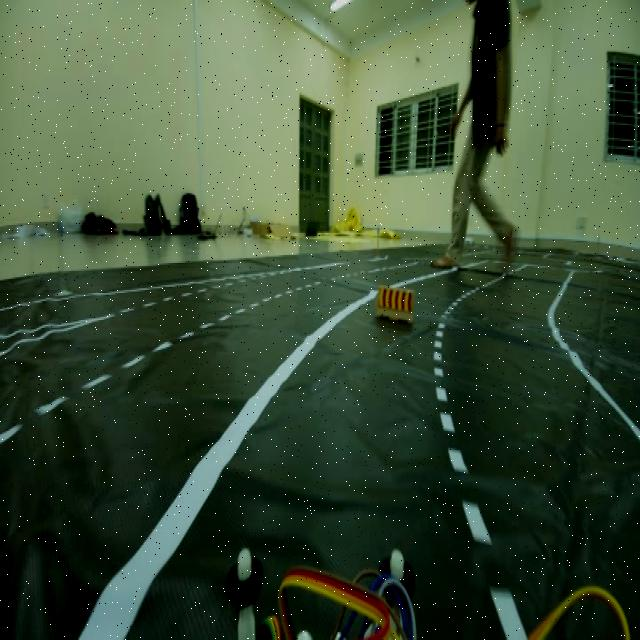roadblock: (373, 273, 423, 331)
